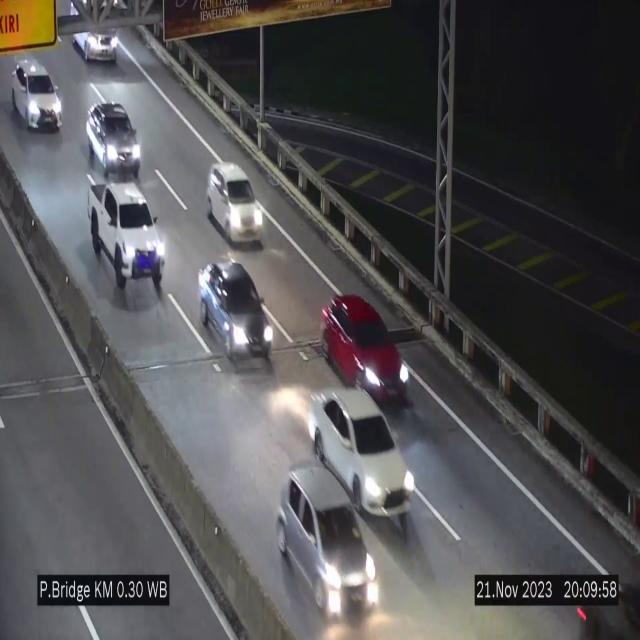Car: (277, 467, 377, 623), (310, 388, 410, 516), (319, 288, 411, 410), (88, 182, 164, 304), (199, 260, 273, 364), (206, 163, 265, 245), (86, 102, 141, 176), (68, 0, 125, 69), (12, 59, 62, 130)
